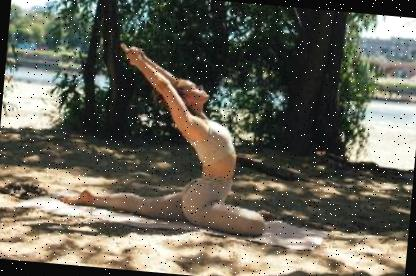person: (52, 34, 284, 238)
